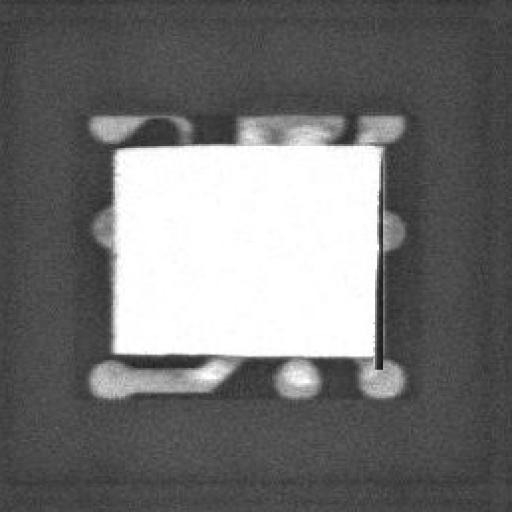DIE_BROKEN: (367, 203, 385, 372)
